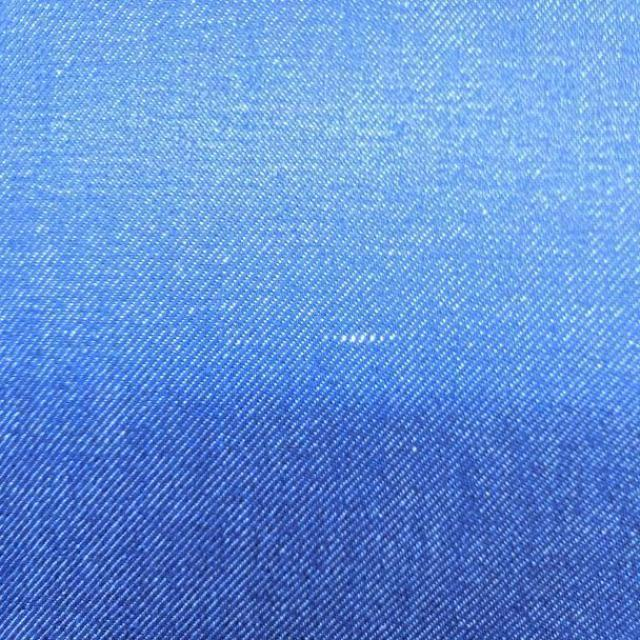Knot: (324, 332, 399, 347)
